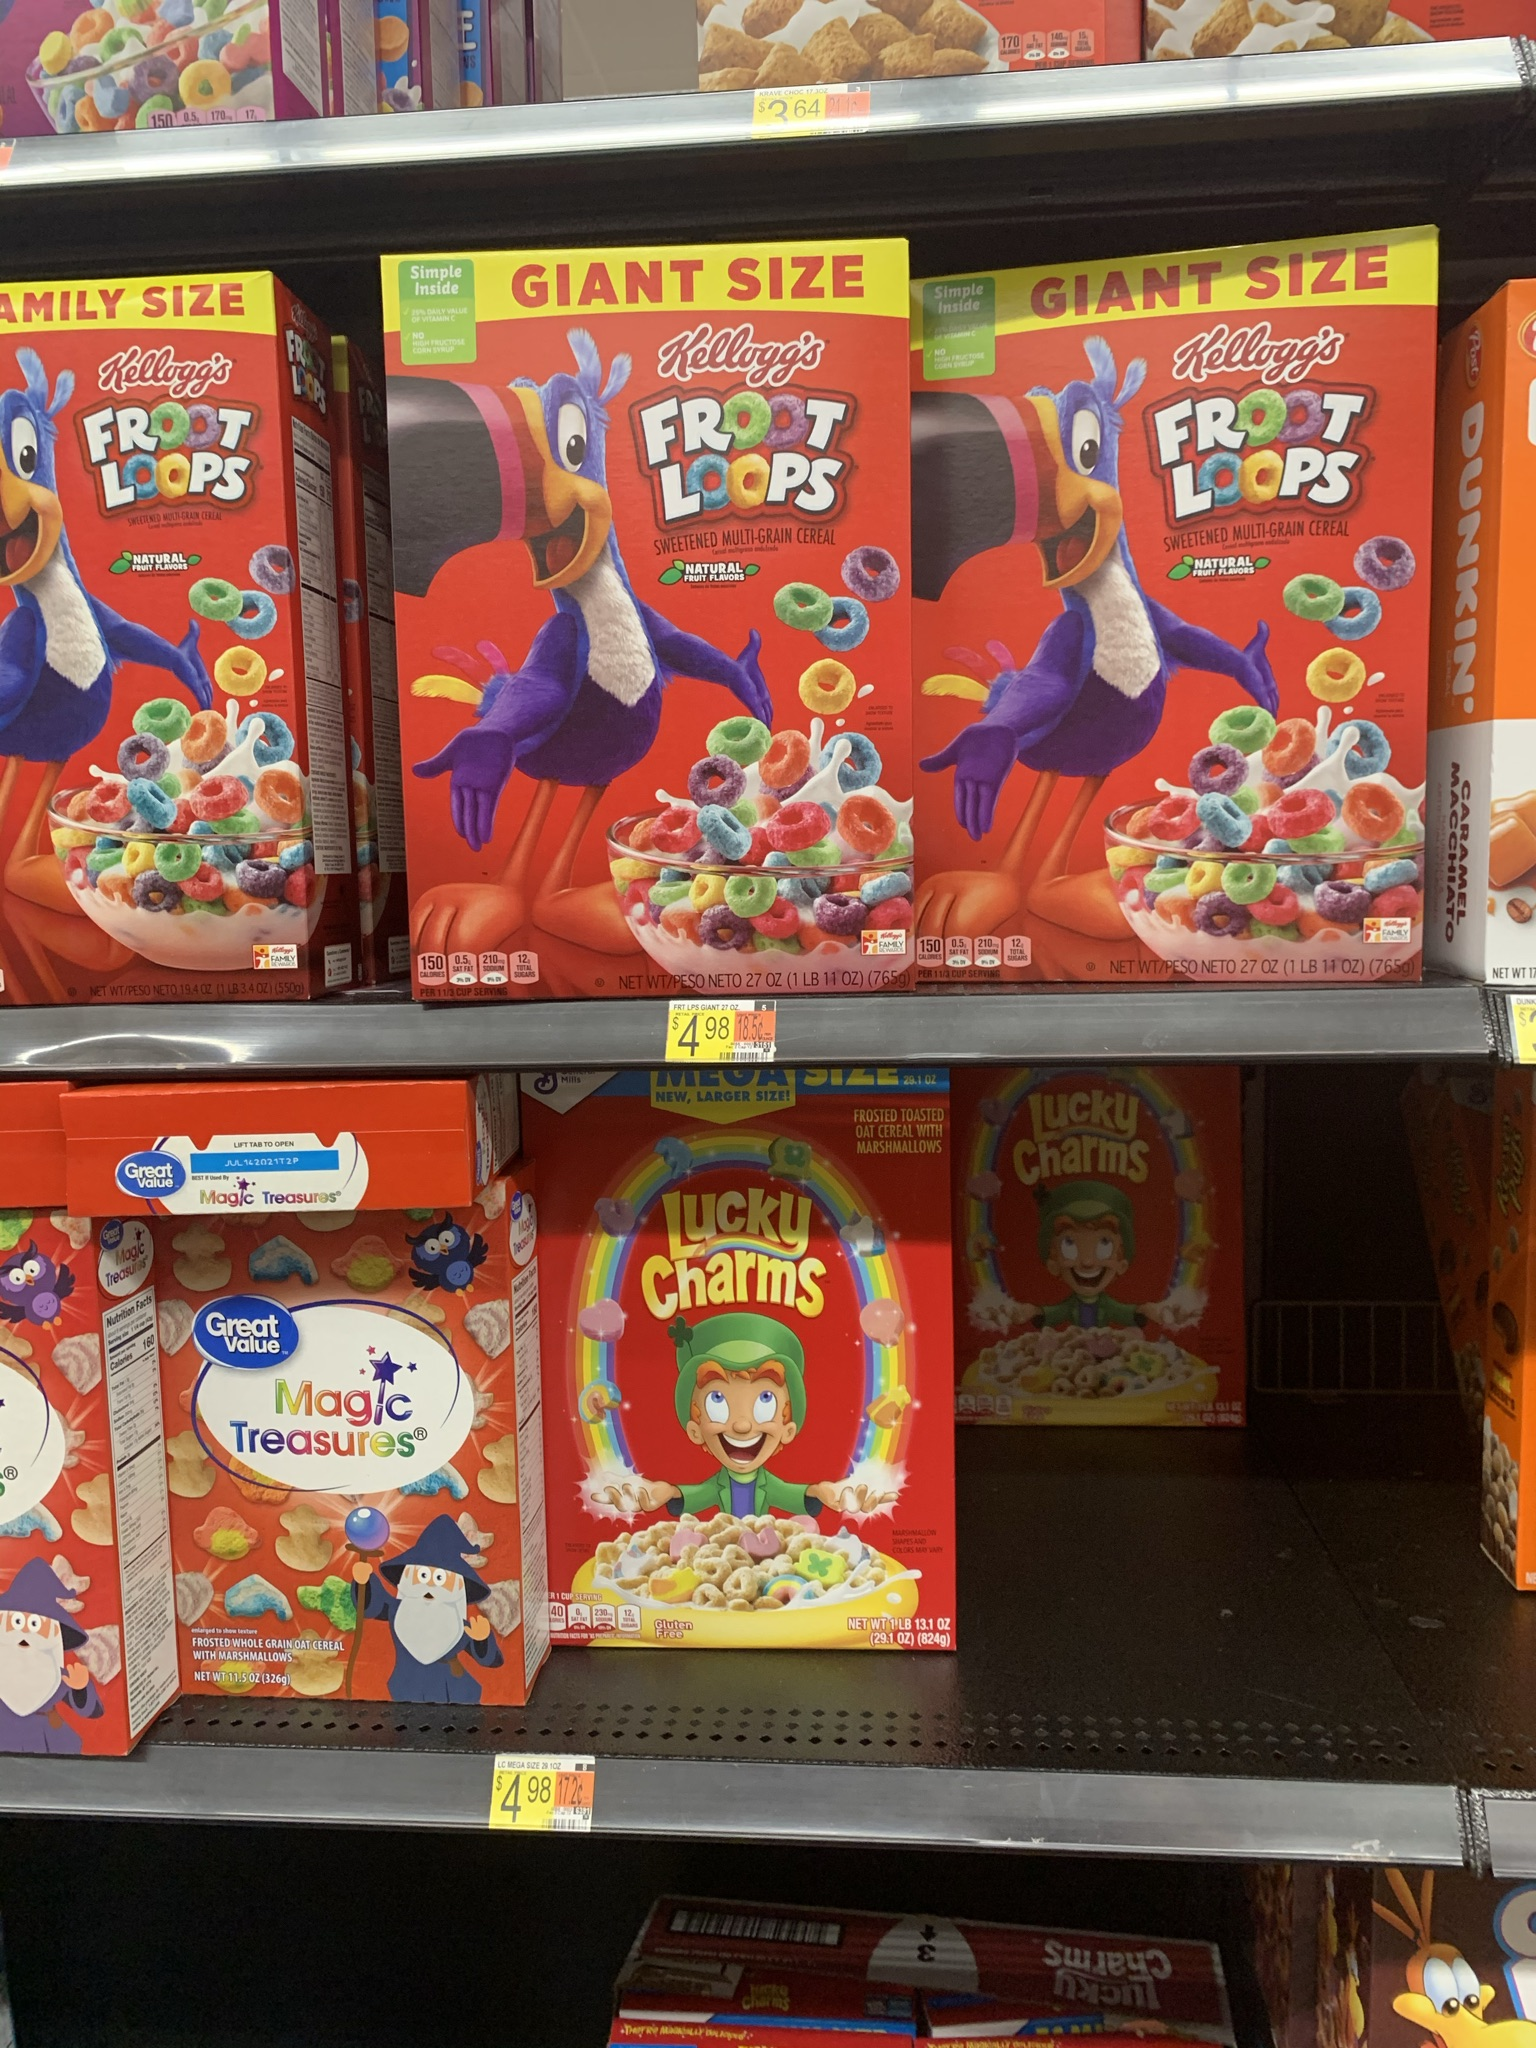Cereal: (382, 248, 908, 995), (907, 255, 1426, 971), (520, 1055, 957, 1650), (173, 1216, 529, 1708), (957, 1063, 1252, 1430)
